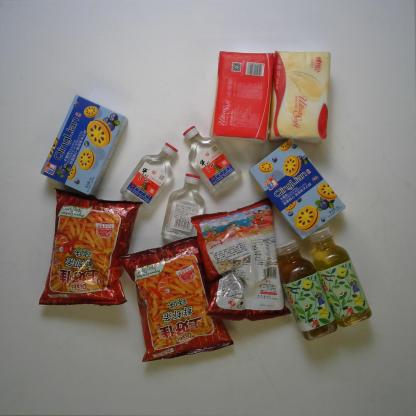Alcohol: (181, 124, 242, 196), (121, 142, 178, 212), (160, 174, 208, 246)
Dessert: (249, 139, 346, 240), (40, 95, 129, 196)
Drink: (310, 226, 373, 328), (274, 240, 337, 342)
Puffed Food: (118, 235, 234, 362), (37, 187, 143, 307), (192, 197, 292, 322)
Tissue: (209, 52, 275, 140), (268, 50, 332, 140)
